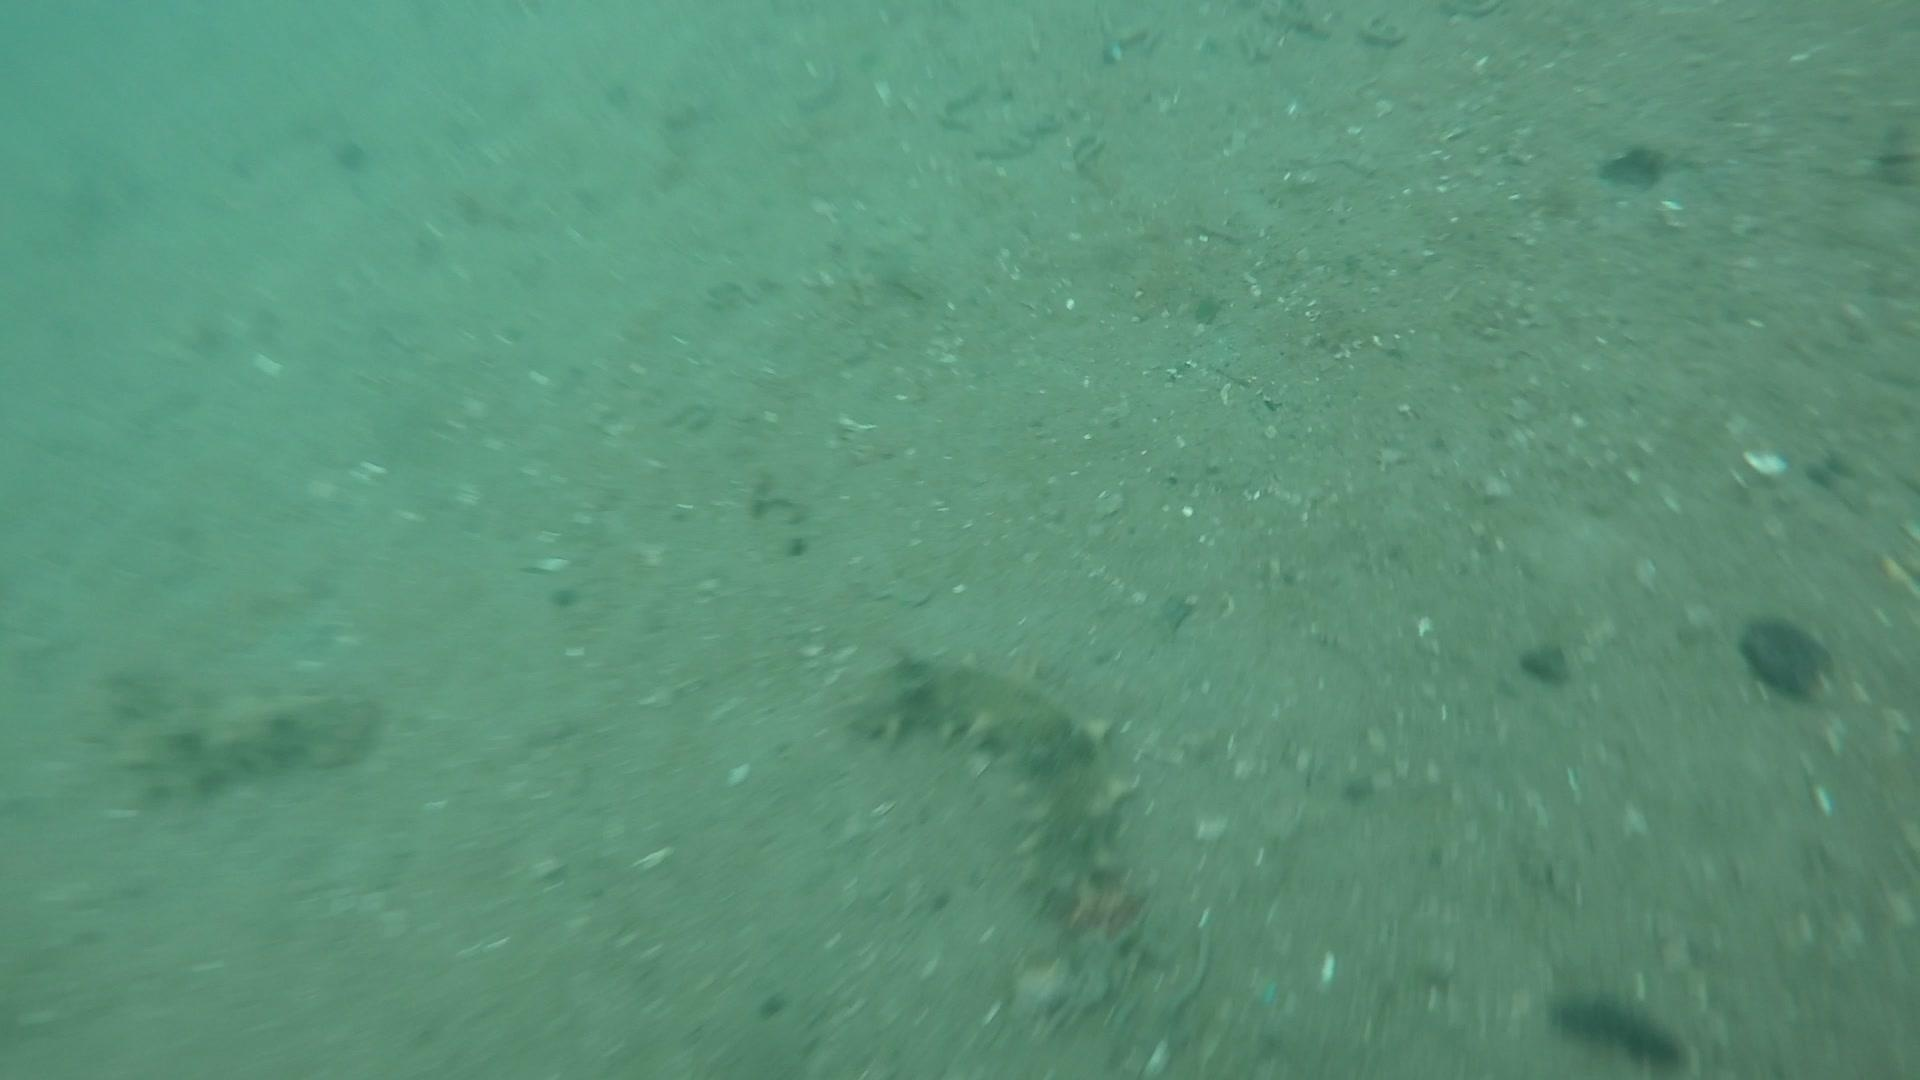holothurian: (844, 638, 1139, 926), (98, 669, 384, 808)
